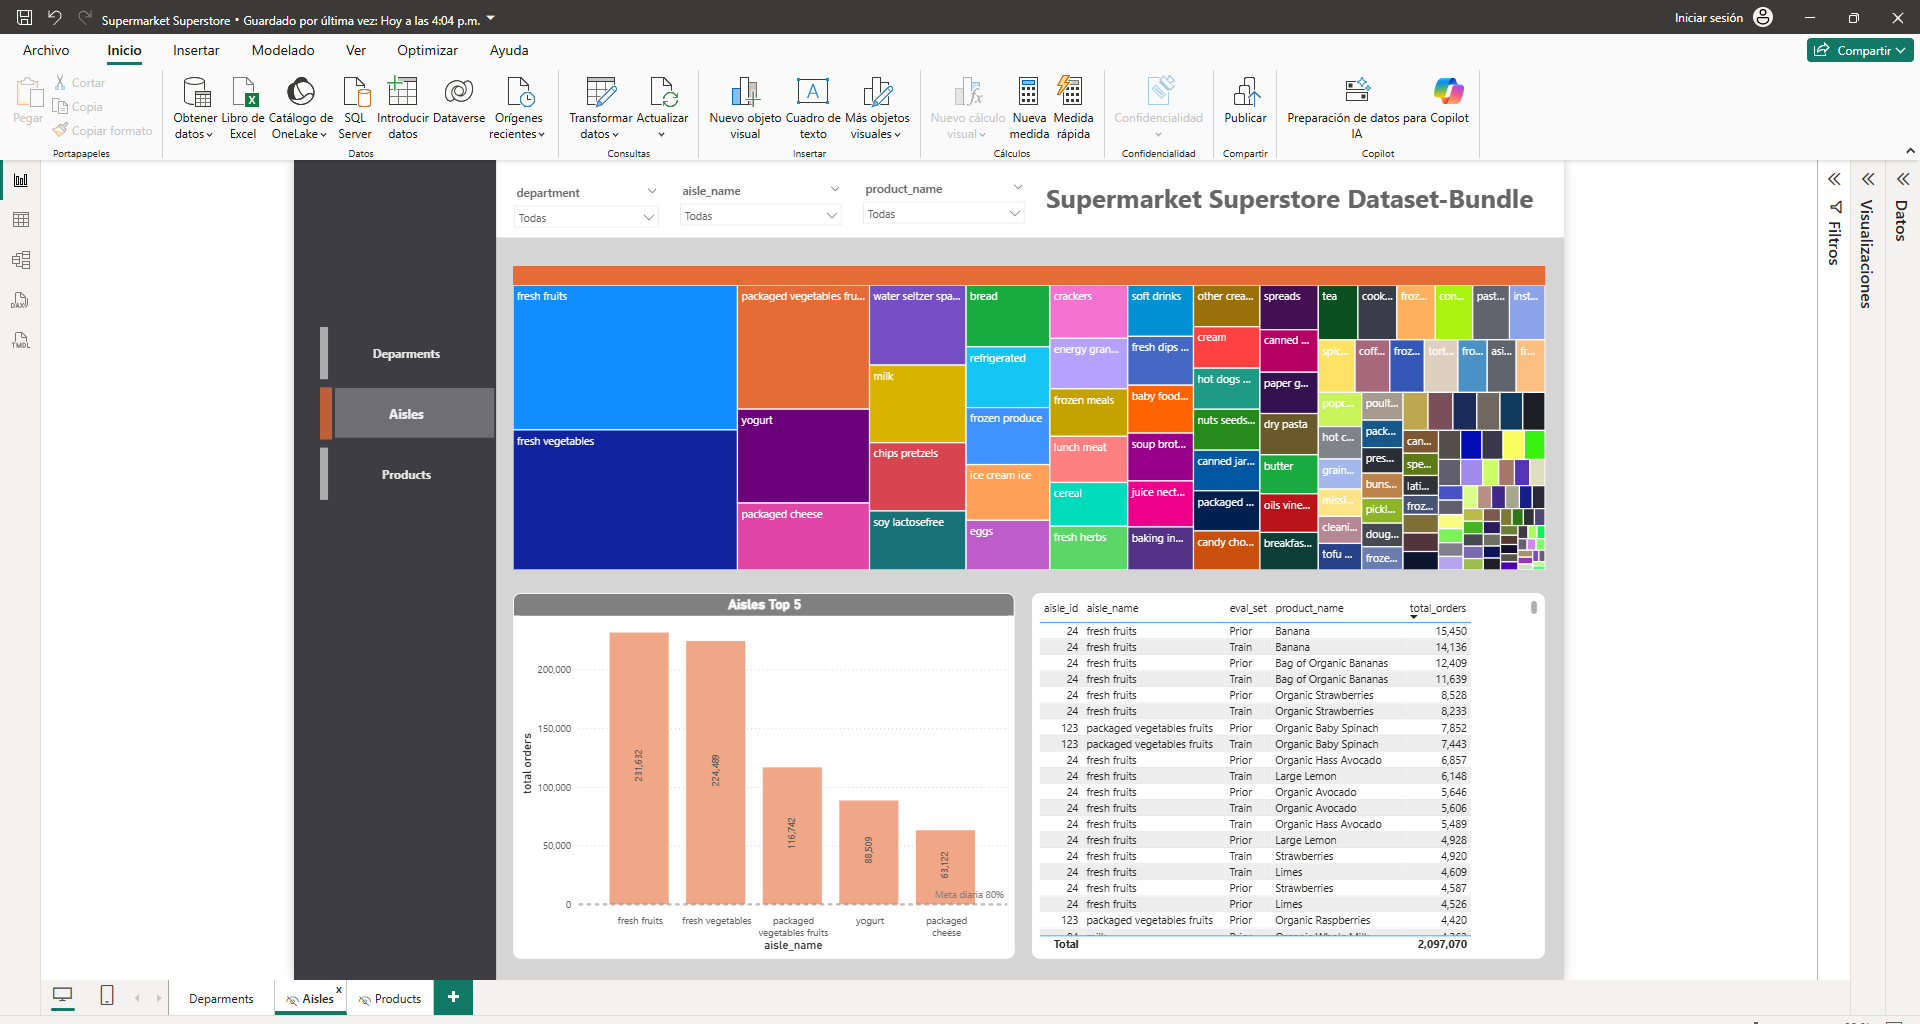

This screenshot's page, from the dashboard's own definition file:
{"tool":"powerbi","page":{"name":"Aisles","canvas":[1580,1020],"ordinal":1},"visuals":[{"type":"textbox","box":[896.9,19.9,682.9,54.7],"z":0},{"type":"tableEx","fields":{"Values":["tbl_kpis_eval_set.aisle_id","tbl_kpis_eval_set.aisle_name","tbl_kpis_eval_set.eval_set","tbl_kpis_eval_set.product_name","Sum(tbl_kpis_eval_set.total_orders)"]},"box":[918,538.6,638.1,455.3],"z":1000},{"type":"lineClusteredColumnComboChart","title":"Aisles Top 5","fields":{"Y":["Sum(tbl_kpis_eval_set.total_orders)"],"Category":["tbl_kpis_eval_set.aisle_name"]},"box":[272.4,538.6,624.4,455.3],"z":2000},{"type":"treemap","title":" ","fields":{"Values":["Sum(tbl_kpis_eval_set.total_orders)"],"Group":["tbl_kpis_eval_set.aisle_name"]},"box":[272.4,131.9,1283.7,378.1],"z":3000},{"type":"slicer","fields":{"Values":["tbl_kpis_eval_set.department"]},"box":[263.7,24.9,200.3,72.1],"z":4000},{"type":"slicer","fields":{"Values":["tbl_kpis_eval_set.aisle_name"]},"box":[470.2,22.4,221.4,72.1],"z":5000},{"type":"slicer","fields":{"Values":["tbl_kpis_eval_set.product_name"]},"box":[697.8,19.9,221.4,72.1],"z":6000},{"type":"pageNavigator","box":[32.8,207.1,216,216],"z":7000},{"type":"shape","box":[50.5,284.2,198.3,61.9],"z":8000}]}

Visuals, with their boxes on the page's 1580x1020 design canvas (x1, y1, x2, y2). These are canvas units, not pixel positions in the 1920x1024 screenshot, which may show the page scaled, cropped or inside an application window:
textbox: Rect(897, 20, 1580, 75)
tableEx - tbl_kpis_eval_set.aisle_id x tbl_kpis_eval_set.aisle_name: Rect(918, 539, 1556, 994)
"Aisles Top 5" lineClusteredColumnComboChart: Rect(272, 539, 897, 994)
" " treemap: Rect(272, 132, 1556, 510)
slicer - tbl_kpis_eval_set.department: Rect(264, 25, 464, 97)
slicer - tbl_kpis_eval_set.aisle_name: Rect(470, 22, 692, 94)
slicer - tbl_kpis_eval_set.product_name: Rect(698, 20, 919, 92)
pageNavigator: Rect(33, 207, 249, 423)
shape: Rect(50, 284, 249, 346)
